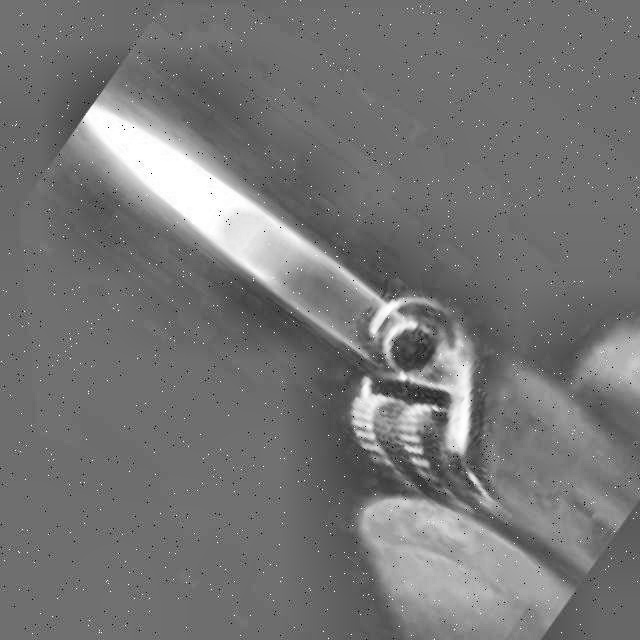Fire: (63, 86, 405, 364)
